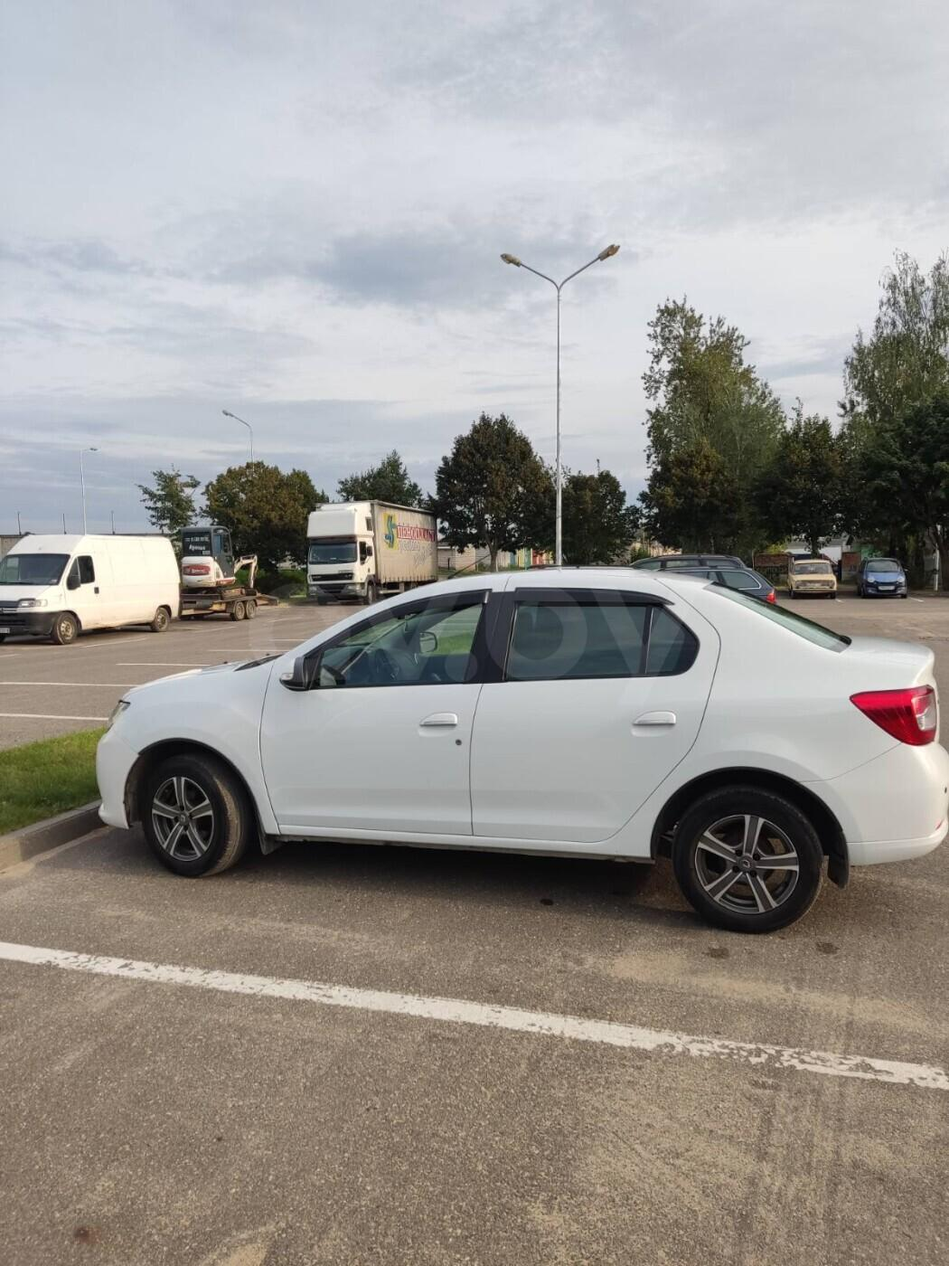Logan_2013-2018: (94, 562, 949, 935)
